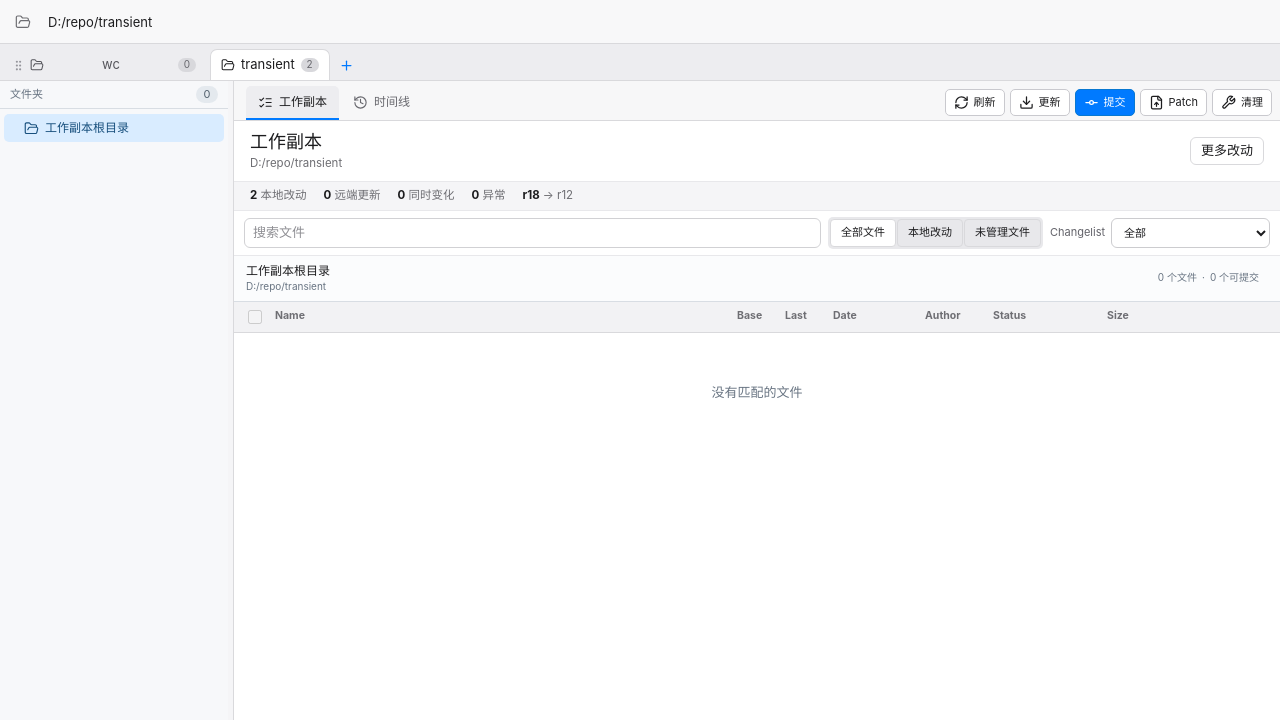
Test: App SVN operation completion › 切换已保存项目时先持久化当前未入池项目
Expected: the text "transient" is shown, x1=241 y1=56 x2=295 y2=74
Click the button "wc 0" at point(117, 64), box x1=27 y1=49 x2=207 y2=80
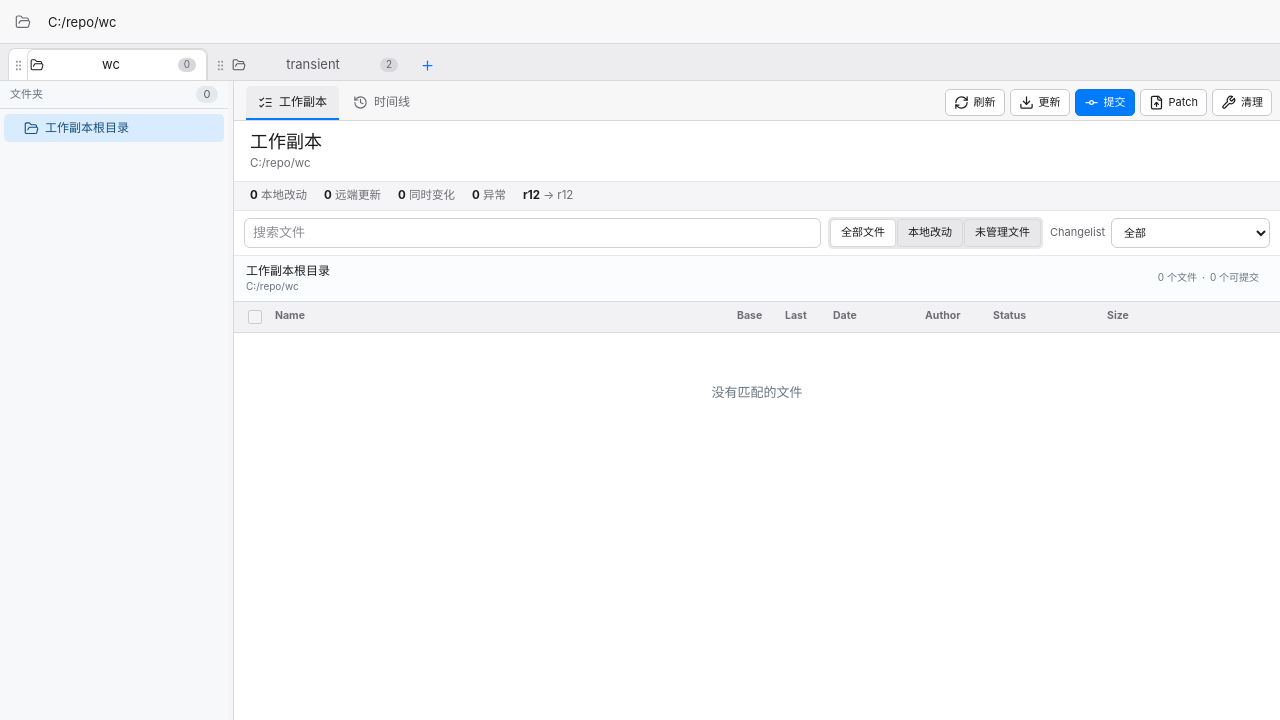
Expected: the text "transient" is shown, x1=286 y1=56 x2=340 y2=72
Expected: the 1st text "C:/repo/wc" is shown, x1=250 y1=156 x2=311 y2=170
